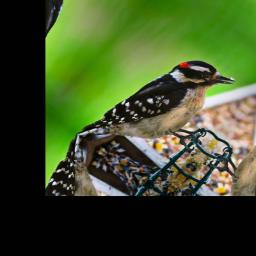Woodpecker: (76, 33, 251, 191)
